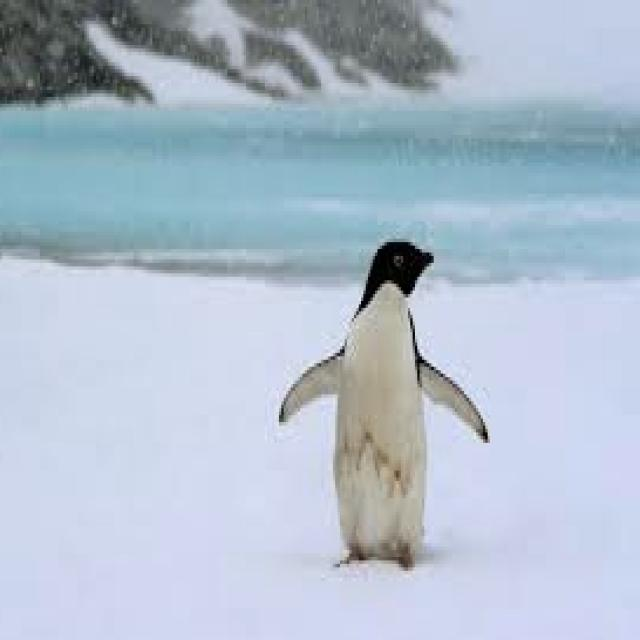penguin: (281, 239, 490, 564)
